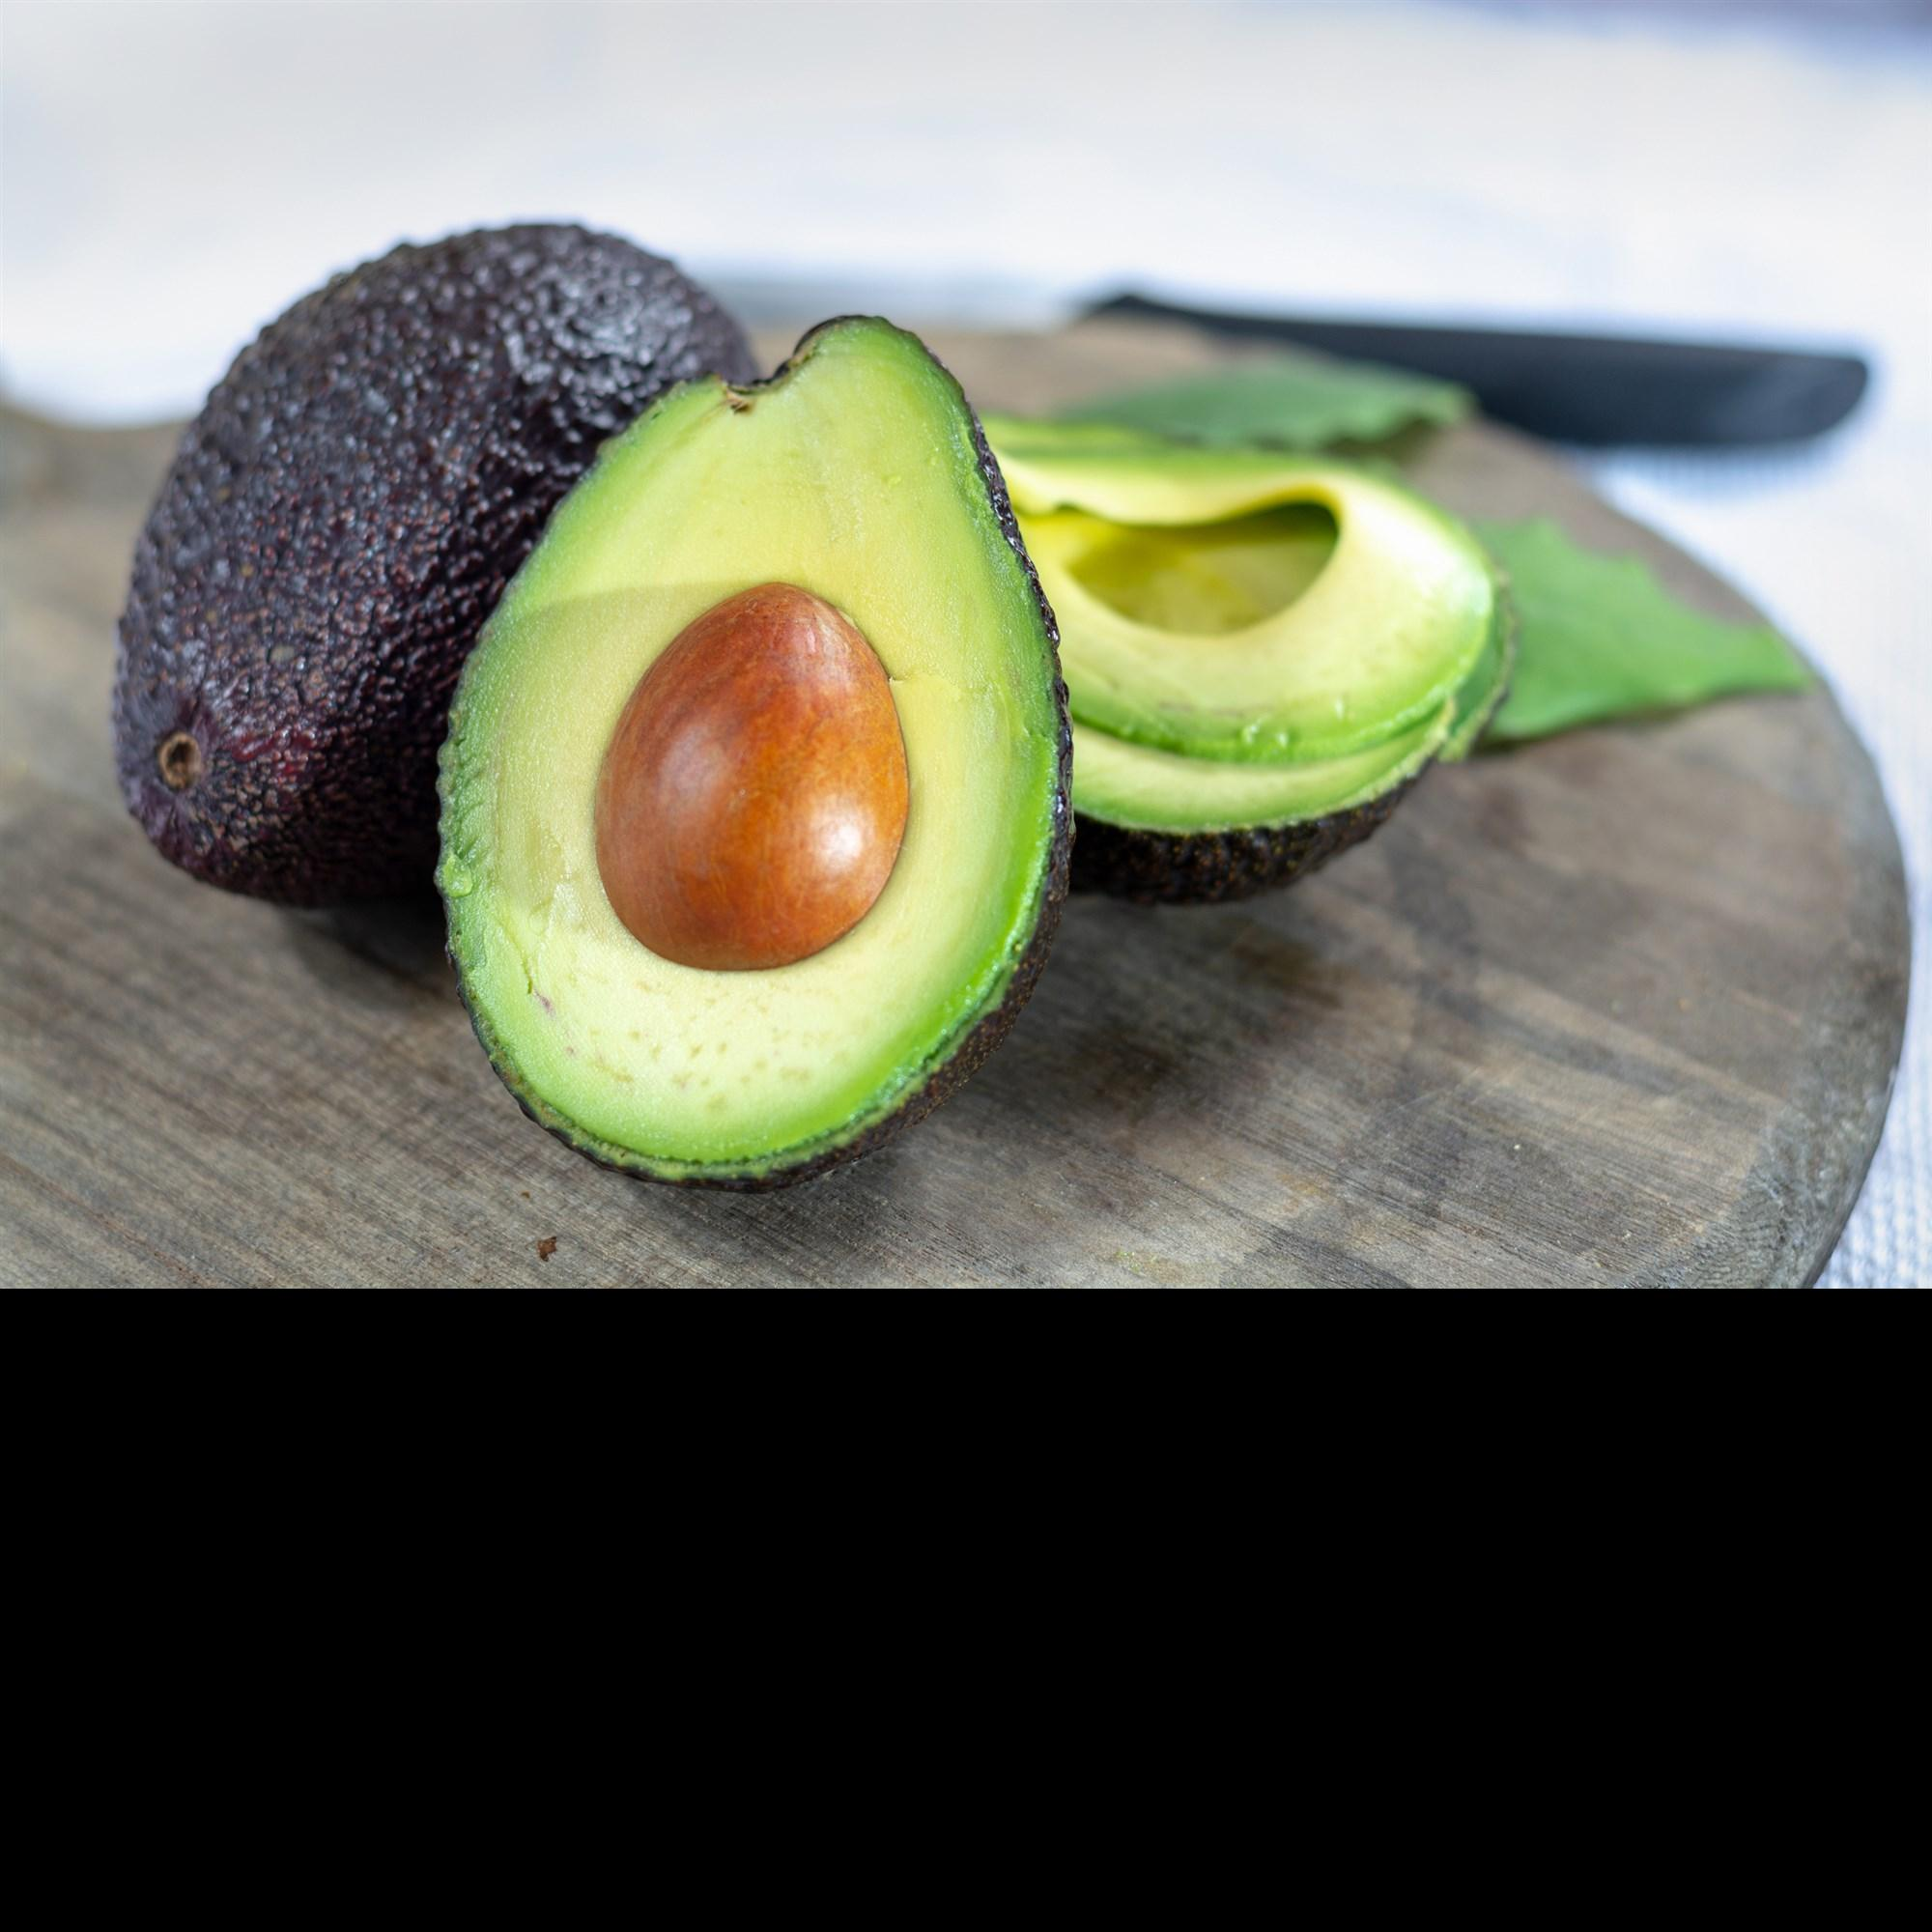ripe: (117, 221, 754, 908)
